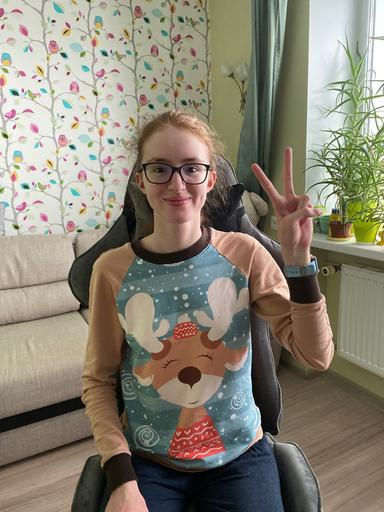peace: (249, 145, 322, 255)
